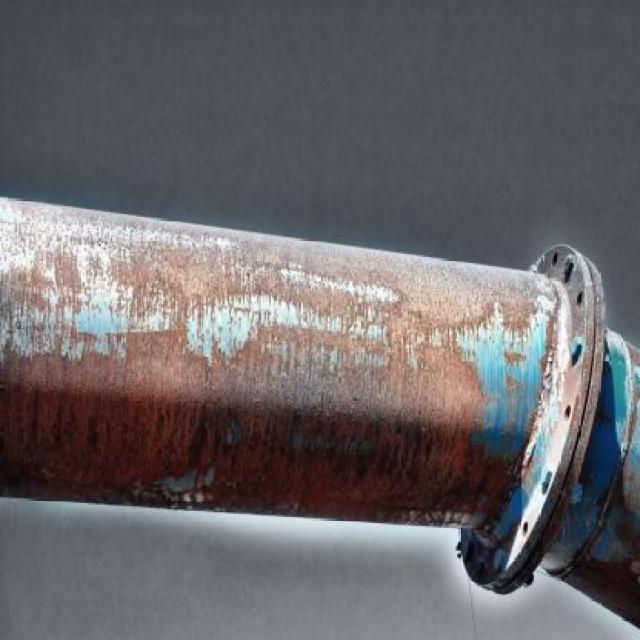corrosion: (4, 180, 640, 627)
